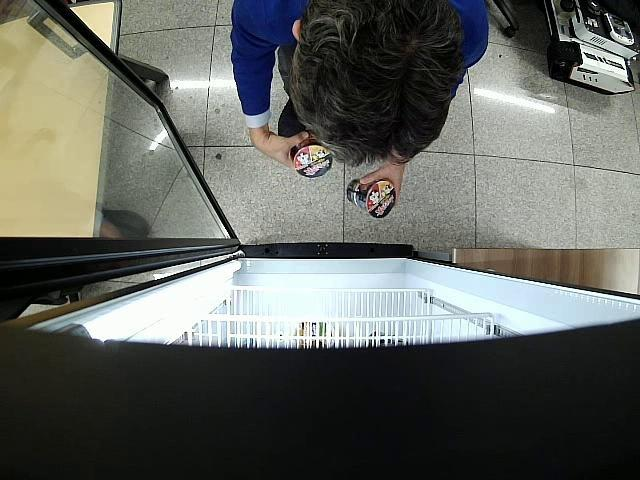08_buldak_S: (348, 178, 398, 218), (290, 136, 334, 179)
